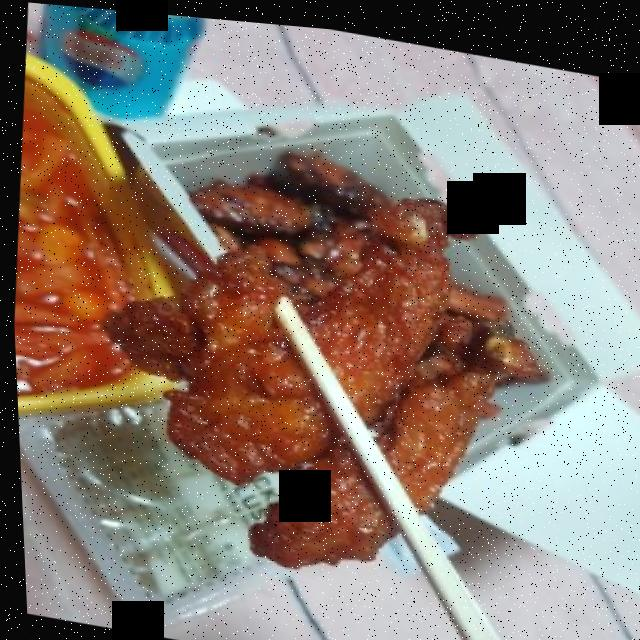Frango: (79, 103, 547, 595)
